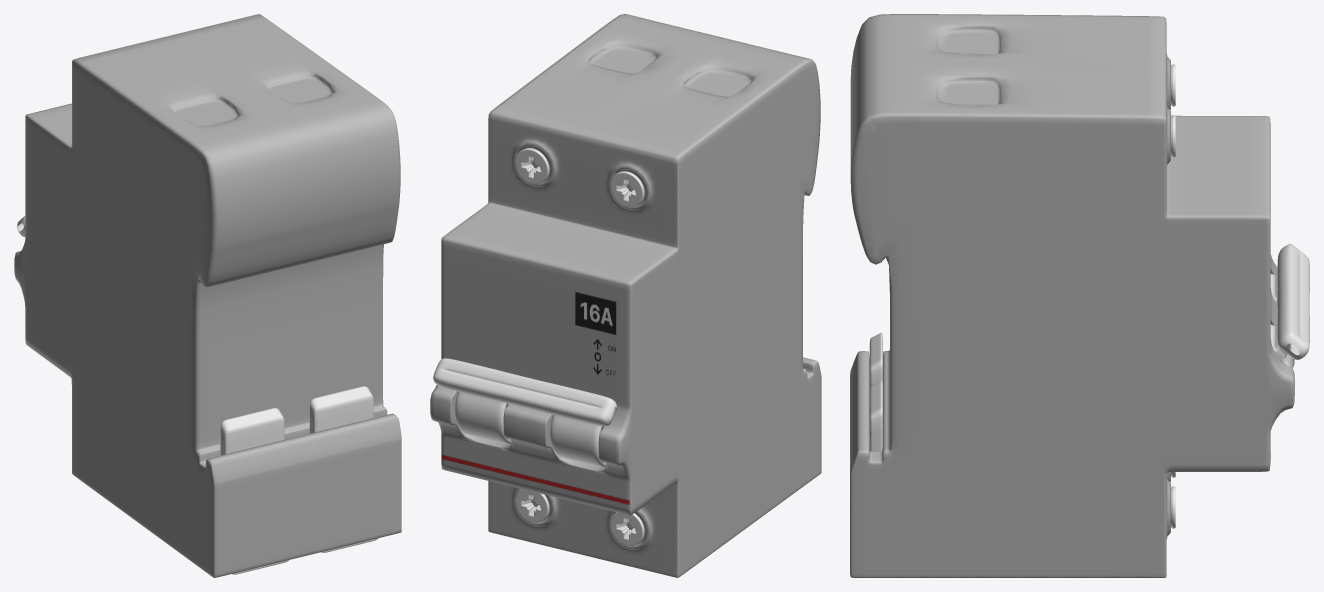
File: Disj16A.fbx
The picture shows the model from 3 angles, left to right: view 1: azimuth 30°, elevation 25°; view 2: azimuth 150°, elevation 25°; view 3: azimuth 270°, elevation 25°; orthographic projection. The views are drawn at different scales.
Visible parts, largest first — view 1: Circuit Breaker, Lock.003; view 2: Circuit Breaker, switch.003, screw.001, screw.003, screw.004, screw.002; view 3: Circuit Breaker, switch.003, Lock.003.
Boxes of the visible parts, x1,y1,x2,y2 form: Circuit Breaker: (14,14,401,577); Lock.003: (220,386,378,574); Circuit Breaker: (430,14,821,577); switch.003: (433,358,616,467); screw.001: (515,148,549,184); screw.003: (610,171,644,207); screw.004: (610,512,644,545); screw.002: (515,489,549,522); Circuit Breaker: (850,14,1294,577); switch.003: (1270,244,1309,367); Lock.003: (869,332,882,451).
Bounding box in the file's own units: 0.0422 × 0.0905 × 0.0805.
